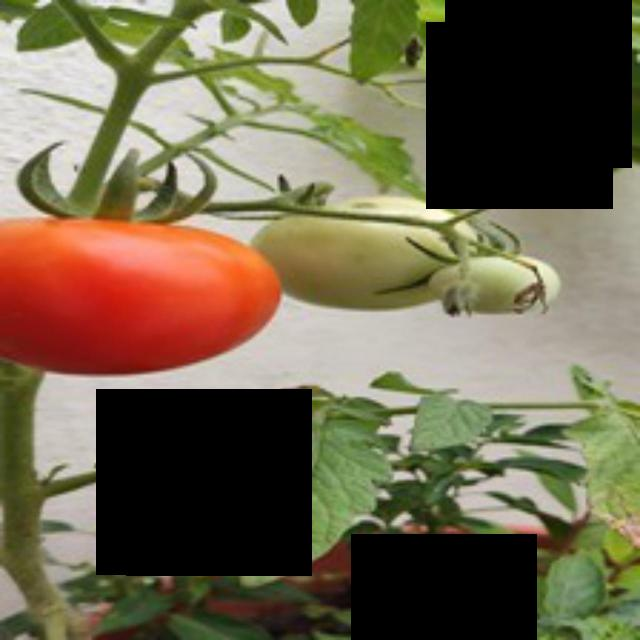tomato: (3, 207, 290, 389)
